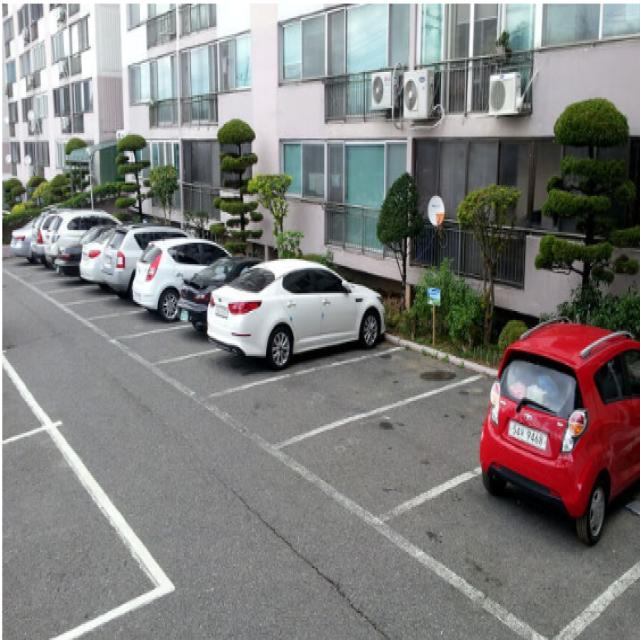empty: (272, 369, 556, 521), (205, 345, 480, 449)
occupied: (494, 339, 640, 535), (222, 256, 382, 362), (145, 236, 220, 315)
